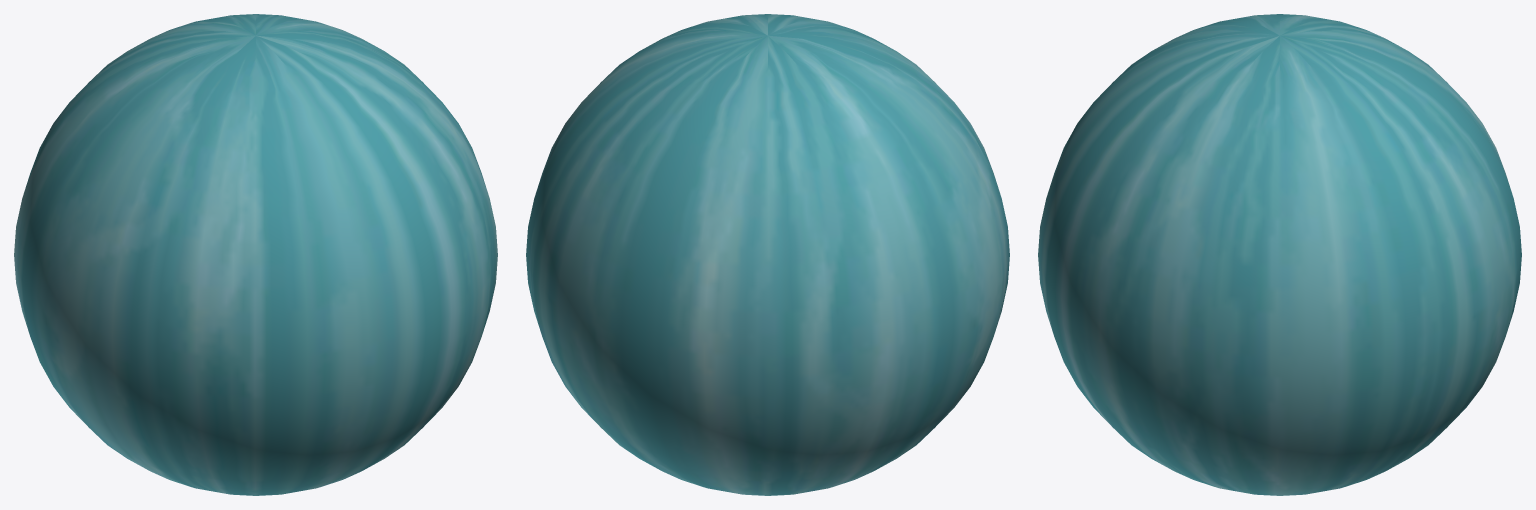
The model's file is bwg_ball__bwg_ball_blue.glb.
3 renders of one model, left to right at view 1: azimuth 30°, elevation 25°; view 2: azimuth 150°, elevation 25°; view 3: azimuth 270°, elevation 25°, orthographic.
Visible parts, largest first — view 1: polygon0; view 2: polygon0; view 3: polygon0.
Part boxes in pixels (x1,y1,x2,y2): polygon0: [14, 14, 497, 495]; polygon0: [526, 14, 1009, 495]; polygon0: [1038, 14, 1521, 495].
Bounding box in the file's own units: 2.18 × 2.18 × 2.18.
1 material, 1 textured.
